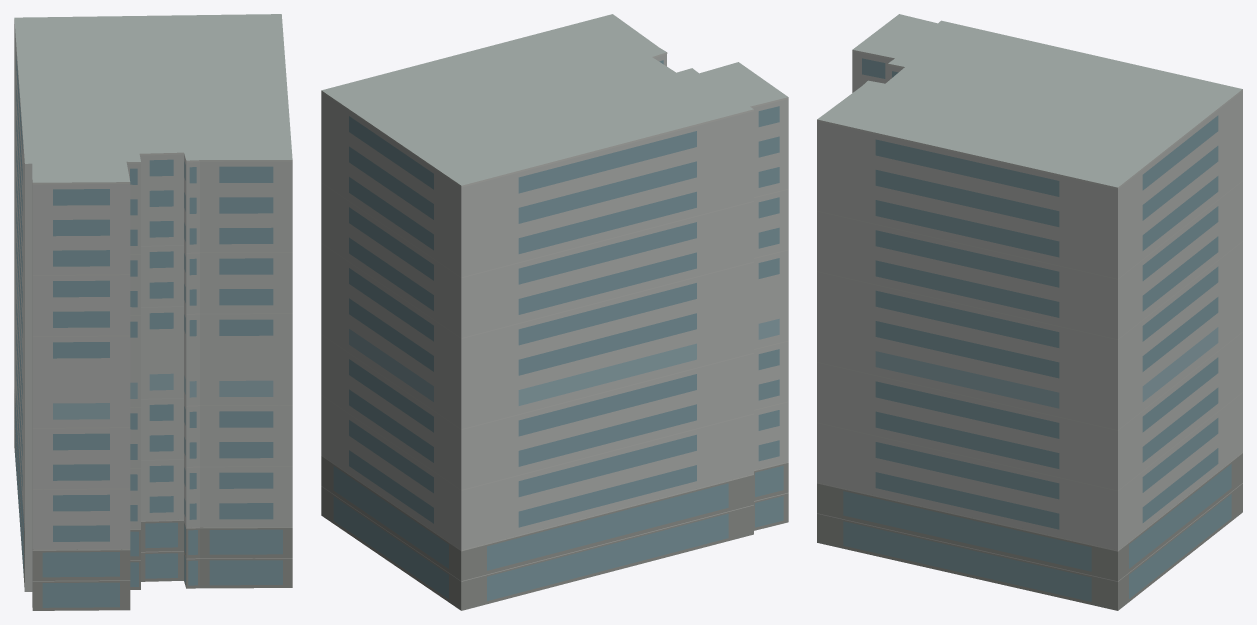
Rendered from survey-upis-32736374.glb.
The picture shows the model from 3 angles, left to right: view 1: azimuth 30°, elevation 25°; view 2: azimuth 150°, elevation 25°; view 3: azimuth 270°, elevation 25°; orthographic projection.
Parts seen in each view (by area): view 1: survey-upis-32736374.tmp; view 2: survey-upis-32736374.tmp; view 3: survey-upis-32736374.tmp.
Part boxes in pixels (x1,y1,x2,y2): survey-upis-32736374.tmp: (14, 14, 292, 610); survey-upis-32736374.tmp: (321, 14, 788, 610); survey-upis-32736374.tmp: (817, 14, 1242, 610).
Bounding box in the file's own units: 51.52 × 58.55 × 53.39.
